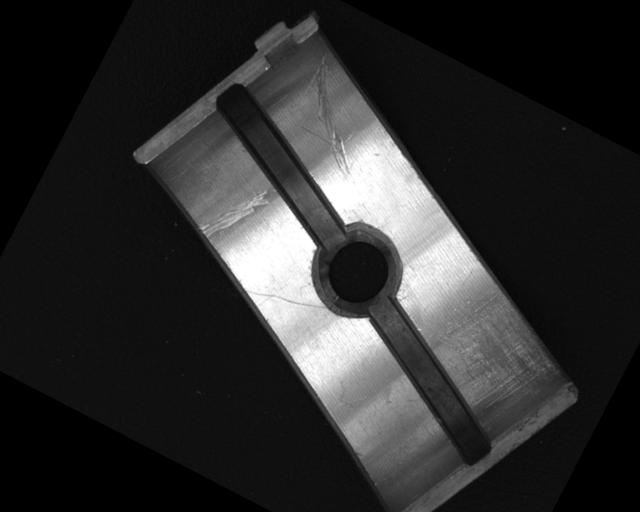gap: (328, 292, 532, 470), (180, 80, 379, 250)
hole: (293, 209, 418, 334)
nick: (277, 51, 394, 177), (194, 166, 277, 259), (243, 270, 327, 329)
scratch: (410, 270, 585, 438)
